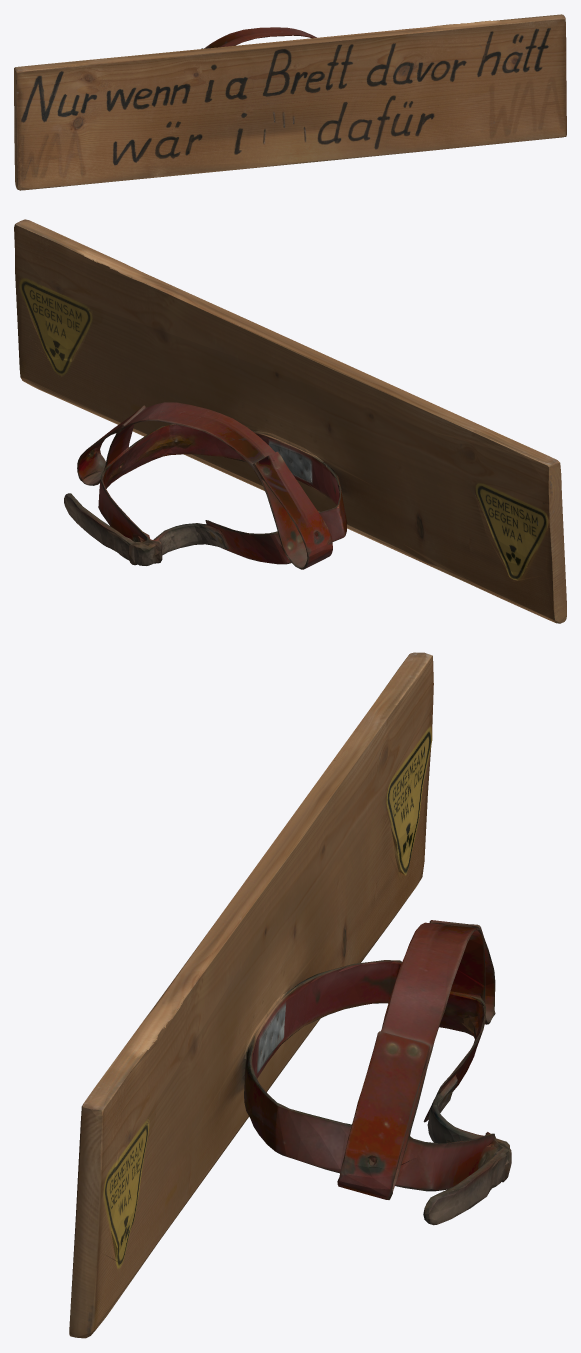
Rendered from D6D732BA-738E-CF4D-8DBF-08359F979037_2k.glb.
3 views of the same model, one above another, from view 1: azimuth 30°, elevation 25°; view 2: azimuth 150°, elevation 25°; view 3: azimuth 270°, elevation 25° (orthographic). The views are drawn at different scales.
Parts seen in each view (by area): view 1: Holzbrett_4k_2k; view 2: Holzbrett_4k_2k; view 3: Holzbrett_4k_2k.
Part boxes in pixels (x1,y1,x2,y2): Holzbrett_4k_2k: (14,14,566,190); Holzbrett_4k_2k: (14,219,566,623); Holzbrett_4k_2k: (69,652,511,1338).
Size of the model in its own units: 0.5798 by 0.1504 by 0.2356.
Materials: 1 (1 with a texture image).
